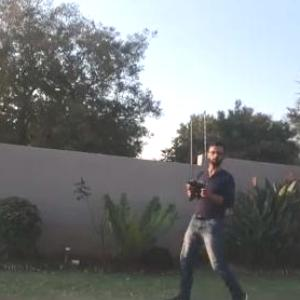follow: (157, 132, 252, 299)
